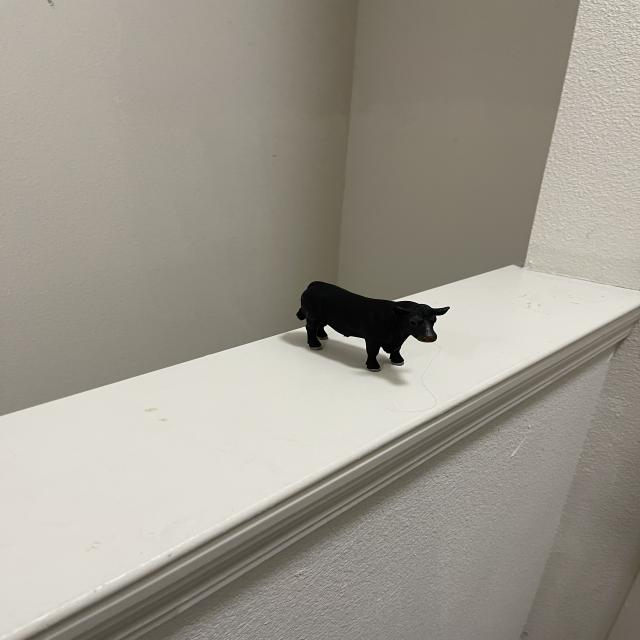cow: (288, 278, 450, 384)
